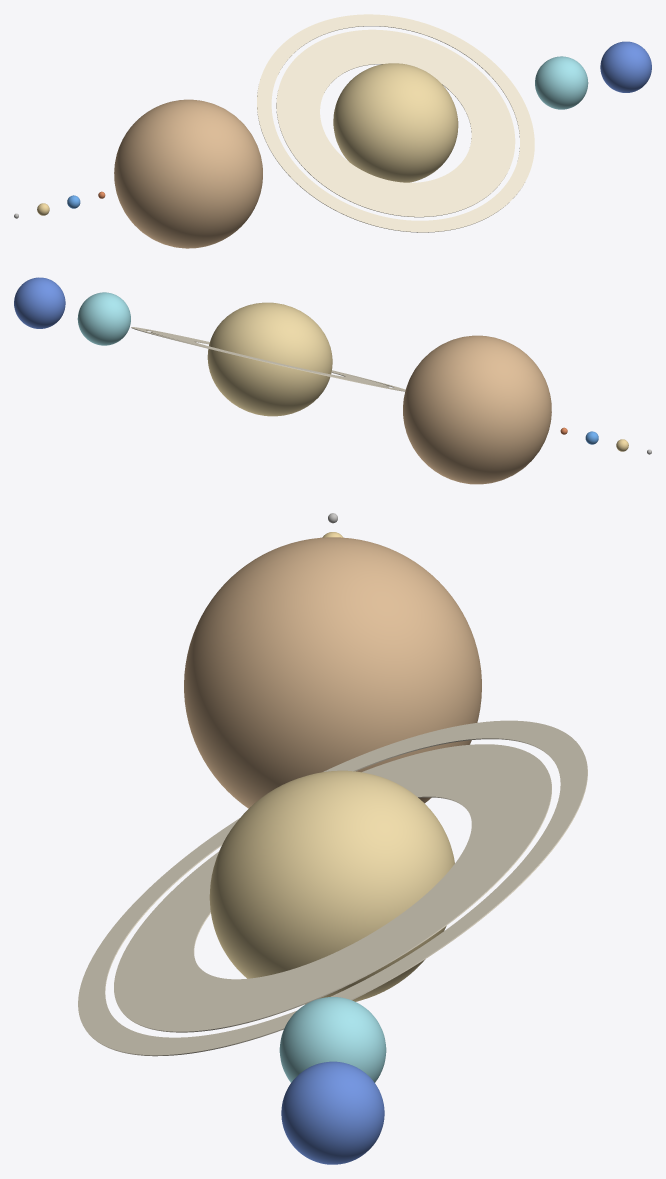
File: planets-to-scale.glb
3 renders of one model, top to bottom at view 1: azimuth 30°, elevation 25°; view 2: azimuth 150°, elevation 25°; view 3: azimuth 270°, elevation 25°, orthographic. The views are drawn at different scales.
Visible parts, largest first — view 1: saturn_s_rings, jupiter, saturn, uranus, neptune; view 2: jupiter, saturn, uranus, neptune, saturn_s_rings; view 3: jupiter, saturn_s_rings, saturn, neptune, uranus.
Boxes of the visible parts, x1,y1,x2,y2 form: saturn_s_rings: (257, 14, 534, 232); jupiter: (114, 99, 262, 248); saturn: (333, 63, 458, 182); uranus: (535, 56, 588, 109); neptune: (600, 41, 651, 92); jupiter: (403, 335, 551, 484); saturn: (207, 302, 332, 416); uranus: (77, 292, 130, 345); neptune: (14, 277, 65, 328); saturn_s_rings: (131, 327, 405, 391); jupiter: (184, 537, 481, 808); saturn_s_rings: (78, 720, 587, 1056); saturn: (209, 770, 454, 1004); neptune: (281, 1061, 384, 1164); uranus: (279, 997, 386, 1082).
Bounding box in the file's own units: 0.6609 × 0.1345 × 0.2301.
